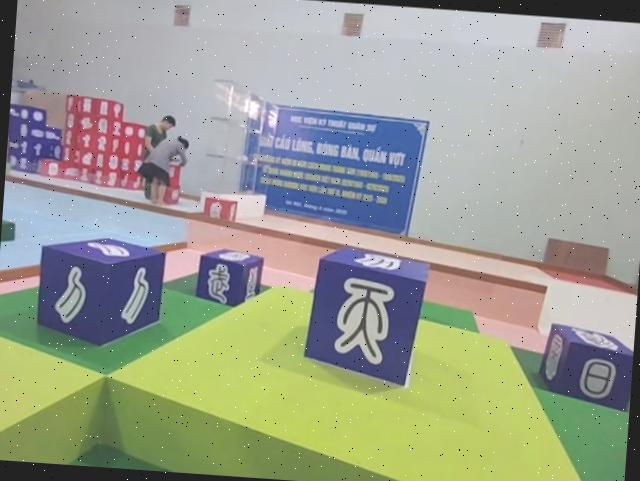R2 Fake Blue: (300, 244, 427, 391), (533, 320, 635, 411), (194, 245, 264, 307)
R2 Real Blue: (35, 231, 167, 349)
